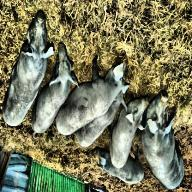boar: (2, 11, 184, 191)
